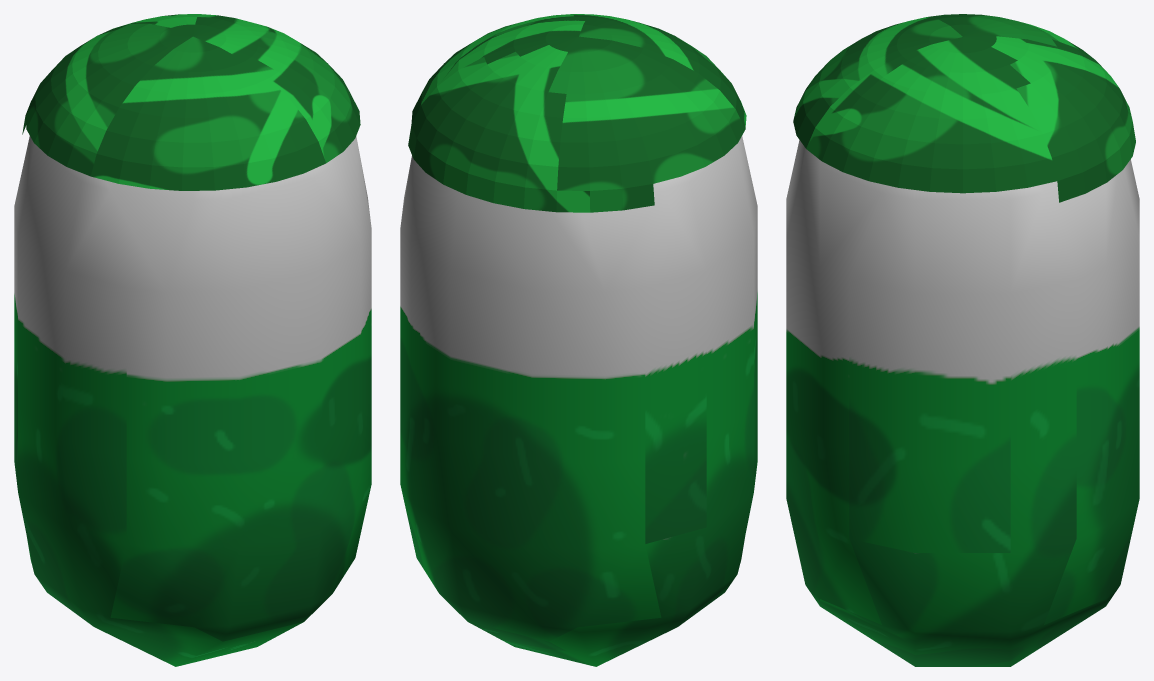
Rendered from Seargent.glb.
3 views of the same model, side by side, from view 1: azimuth 30°, elevation 25°; view 2: azimuth 150°, elevation 25°; view 3: azimuth 270°, elevation 25° (orthographic).
Parts seen in each view (by area): view 1: Mball.001, Sphere; view 2: Mball.001, Sphere; view 3: Mball.001, Sphere.
Boxes of the visible parts, x1,y1,x2,y2 form: Mball.001: (14,136,371,666); Sphere: (22,14,360,190); Mball.001: (400,136,757,666); Sphere: (408,14,746,212); Mball.001: (786,140,1139,666); Sphere: (793,14,1135,202).
Size of the model in its own units: 4.45 by 8.47 by 4.45.
2 materials, 2 textured.
